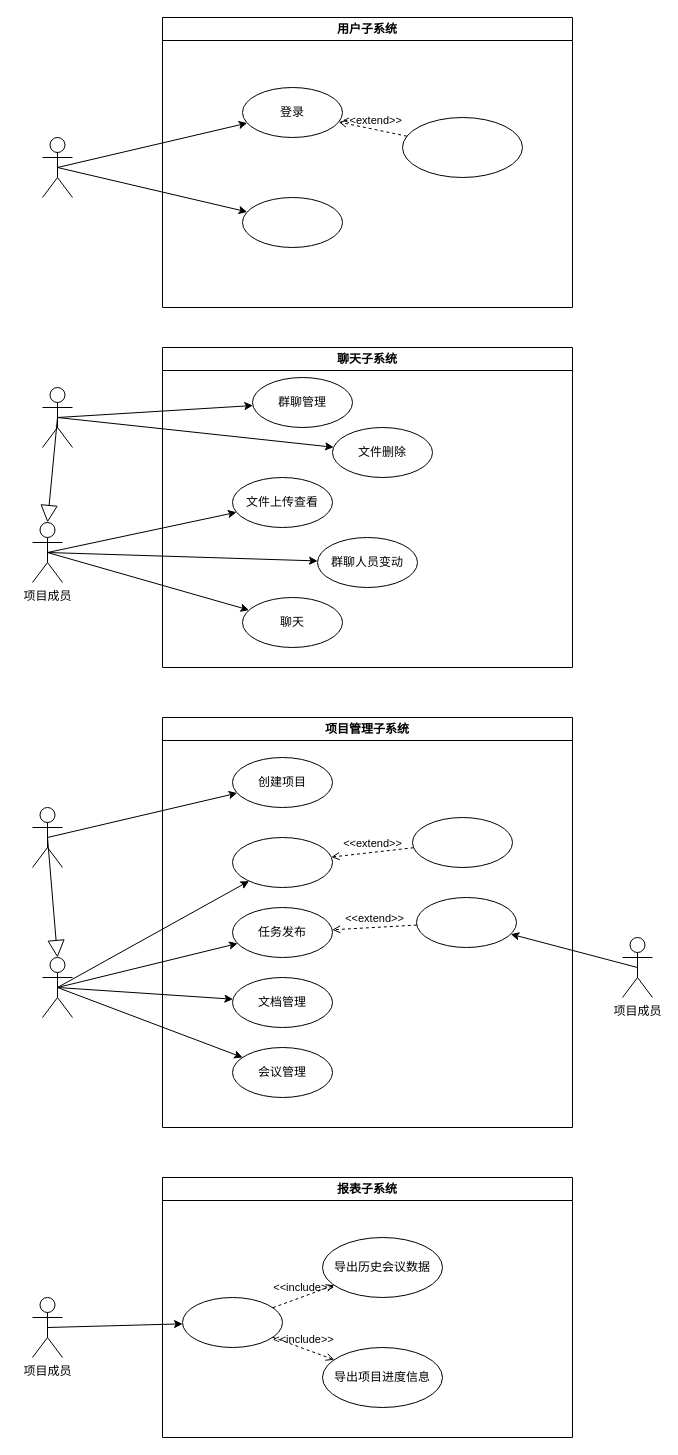
This 678x1455 diagram has some shape labels left out. Here are the shapes that lost their labels. From the top down, the centre of each, then its label:
At (x=57, y=167): "用户".
At (x=462, y=147): "修改个人信息".
At (x=292, y=222): "注册".
At (x=57, y=417): "群聊管理员".
At (x=47, y=837): "项目拥有者".
At (x=462, y=842): "权限管理".
At (x=282, y=862): "成员管理".
At (x=466, y=922): "任务提交".
At (x=57, y=987): "项目管理员".
At (x=232, y=1322): "导出项目信息".
